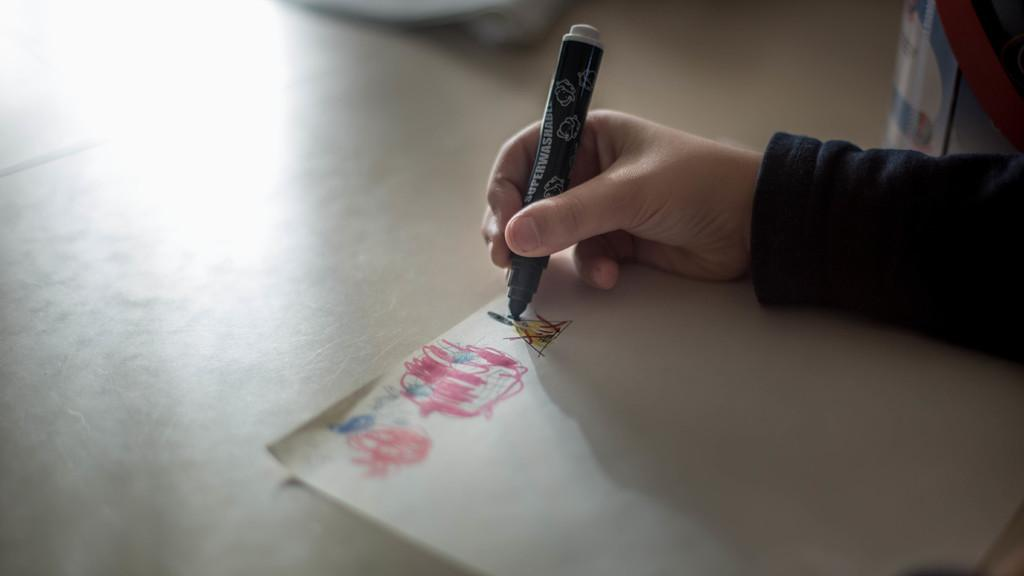pen: (506, 22, 601, 328)
